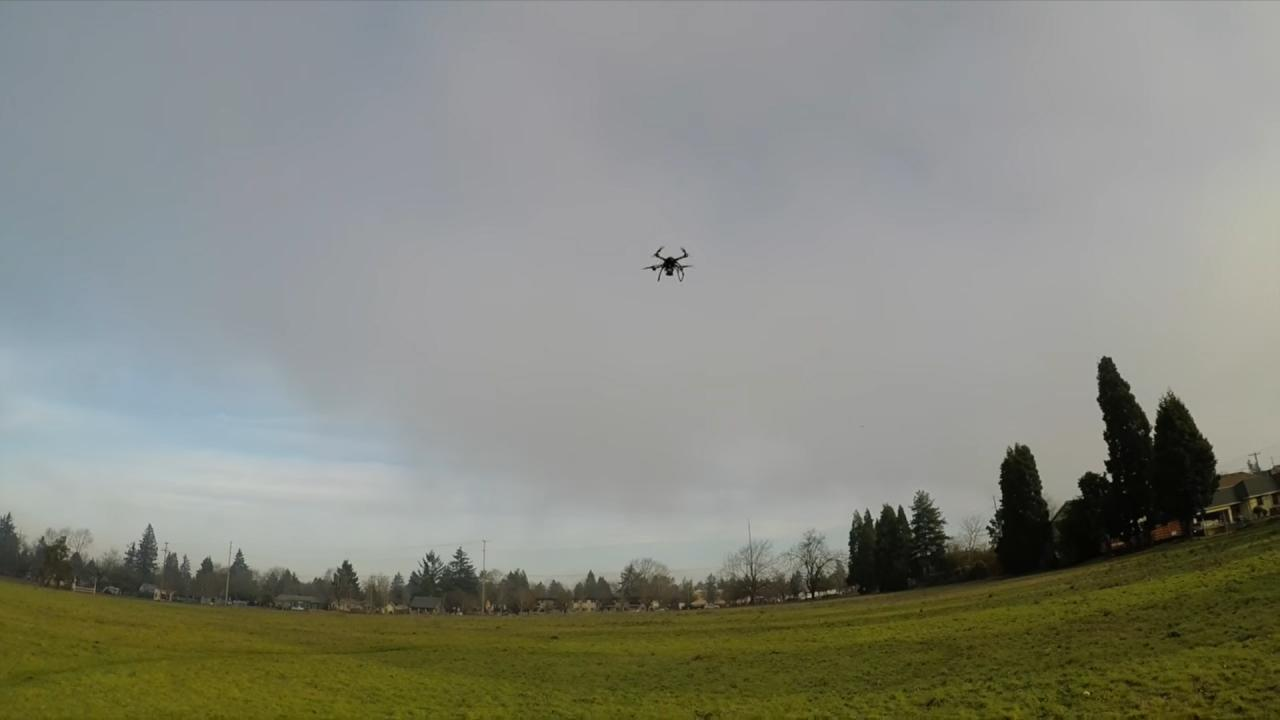Drone: (634, 233, 698, 293)
